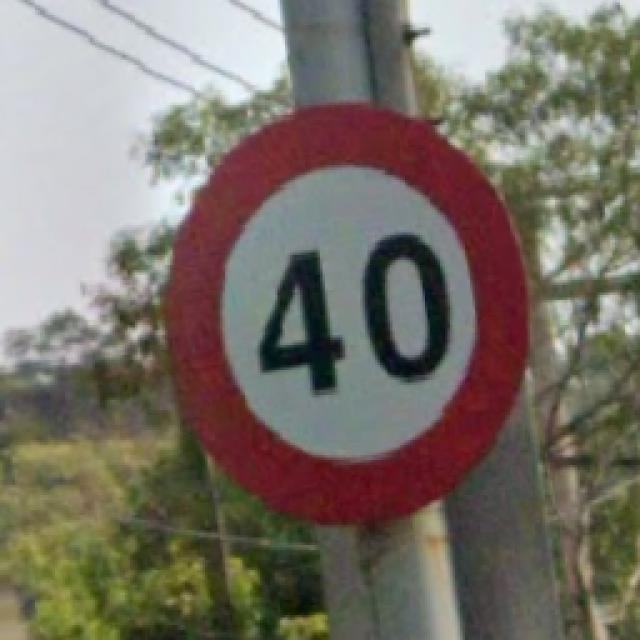Speed Limit -40-: (168, 105, 525, 522)
